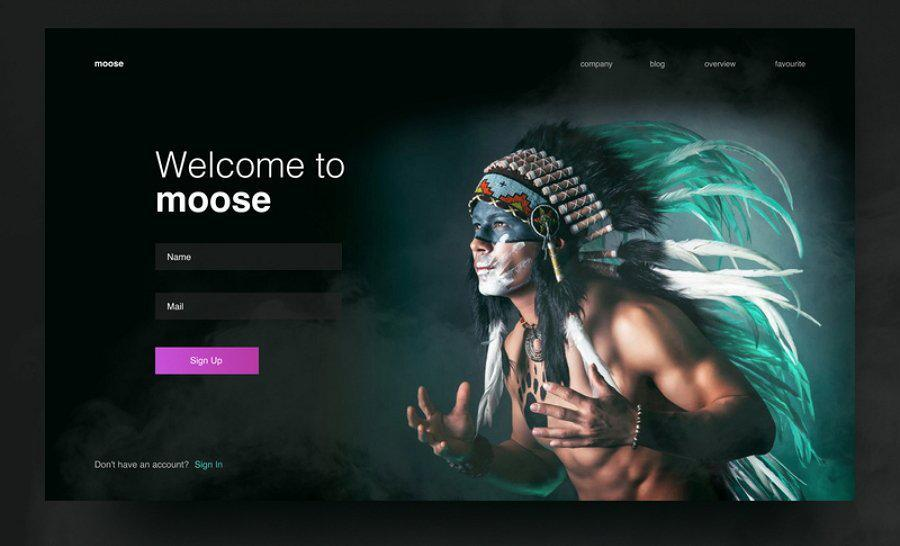button: (155, 346, 261, 376)
input: (155, 290, 345, 322), (154, 243, 346, 273)
